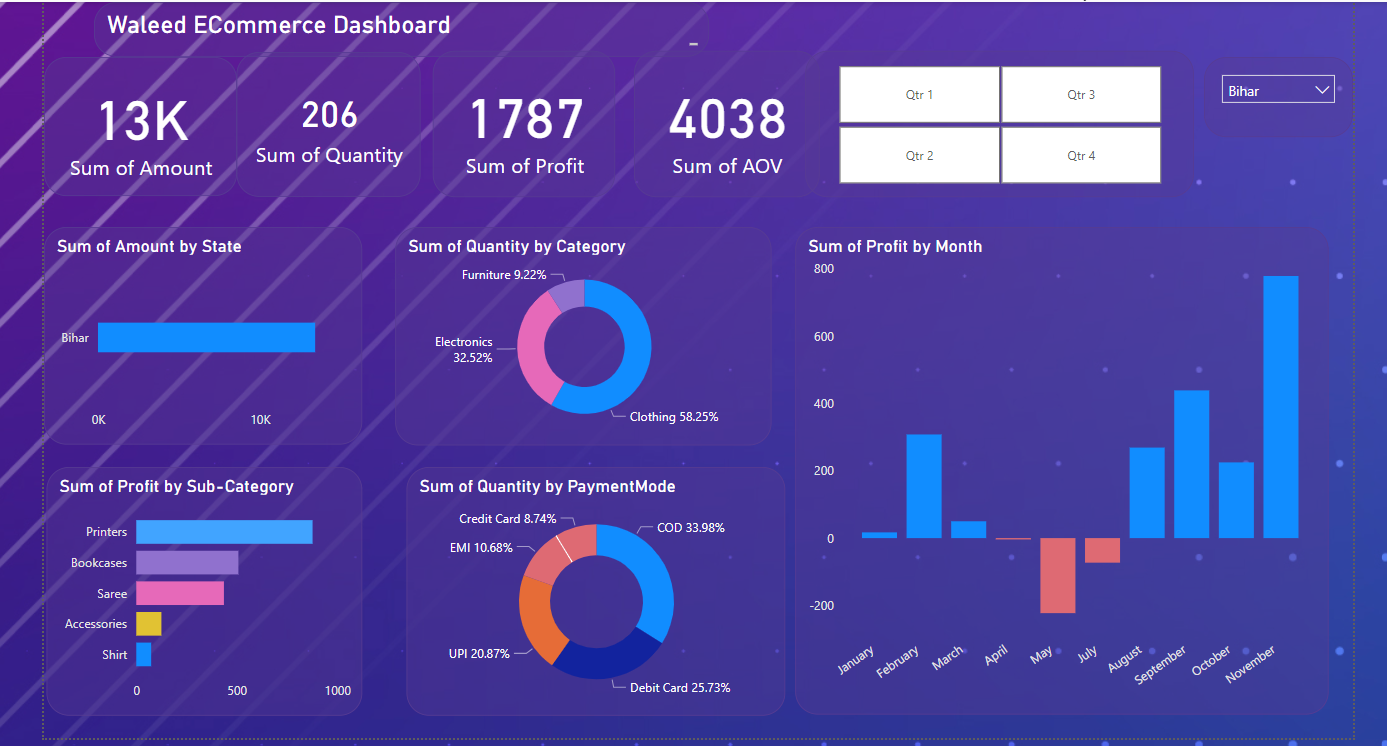

Layout of this report page (visuals, bound fields, positions):
{"tool":"powerbi","page":{"name":"Page 1","canvas":[1280,720],"ordinal":0},"visuals":[{"type":"columnChart","fields":{"Category":["Orders.Order Date.Variation.Date Hierarchy.Month"],"Y":["Details.Profit"]},"box":[734.3,220,521.4,477.1],"z":0},{"type":"barChart","fields":{"Y":["Details.Profit"],"Category":["Details.Sub-Category"]},"box":[2.9,454.3,308.6,242.9],"z":1000},{"type":"donutChart","fields":{"Category":["Details.Category"],"Y":["Details.Quantity"]},"box":[343.3,220,368.3,213.3],"z":2000},{"type":"donutChart","fields":{"Y":["Details.Quantity"],"Category":["Details.PaymentMode"]},"box":[354.3,454.3,370,242.9],"z":3000},{"type":"card","fields":{"Values":["Details.Amount"]},"box":[0,54.3,188.6,135.7],"z":4000},{"type":"card","fields":{"Values":["Details.Quantity"]},"box":[188.6,48.6,180,141.4],"z":5000},{"type":"card","fields":{"Values":["Details.Profit"]},"box":[380,47.1,178.6,142.9],"z":6000},{"type":"card","fields":{"Values":["Details.AOV"]},"box":[577.1,47.1,181.4,142.9],"z":7000},{"type":"barChart","fields":{"Y":["Details.Amount"],"Category":["Orders.State"]},"box":[0,220,311.4,212.9],"z":8000},{"type":"textbox","title":"Waleed  ECommerce Dashboard","box":[48.9,0,601.4,53.8],"z":9000},{"type":"slicer","fields":{"Values":["Orders.Order Date.Variation.Date Hierarchy.Quarter"]},"box":[744.3,47.1,380,142.9],"z":10000},{"type":"slicer","fields":{"Values":["Orders.State"]},"box":[1134.3,54.3,145.7,78.6],"z":11000}]}

Visuals, with their boxes on the page's 1280x720 design canvas (x1, y1, x2, y2). These are canvas units, not pixel positions in the 1387x746 screenshot, which may show the page scaled, cropped or inside an application window:
columnChart - Orders.Order Date.Variation.Date Hierarchy.Month x Details.Profit: l=734, t=220, r=1256, b=697
barChart - Details.Profit x Details.Sub-Category: l=3, t=454, r=312, b=697
donutChart - Details.Category x Details.Quantity: l=343, t=220, r=712, b=433
donutChart - Details.Quantity x Details.PaymentMode: l=354, t=454, r=724, b=697
card - Details.Amount: l=0, t=54, r=189, b=190
card - Details.Quantity: l=189, t=49, r=369, b=190
card - Details.Profit: l=380, t=47, r=559, b=190
card - Details.AOV: l=577, t=47, r=758, b=190
barChart - Details.Amount x Orders.State: l=0, t=220, r=311, b=433
"Waleed  ECommerce Dashboard" textbox: l=49, t=0, r=650, b=54
slicer - Orders.Order Date.Variation.Date Hierarchy.Quarter: l=744, t=47, r=1124, b=190
slicer - Orders.State: l=1134, t=54, r=1280, b=133
